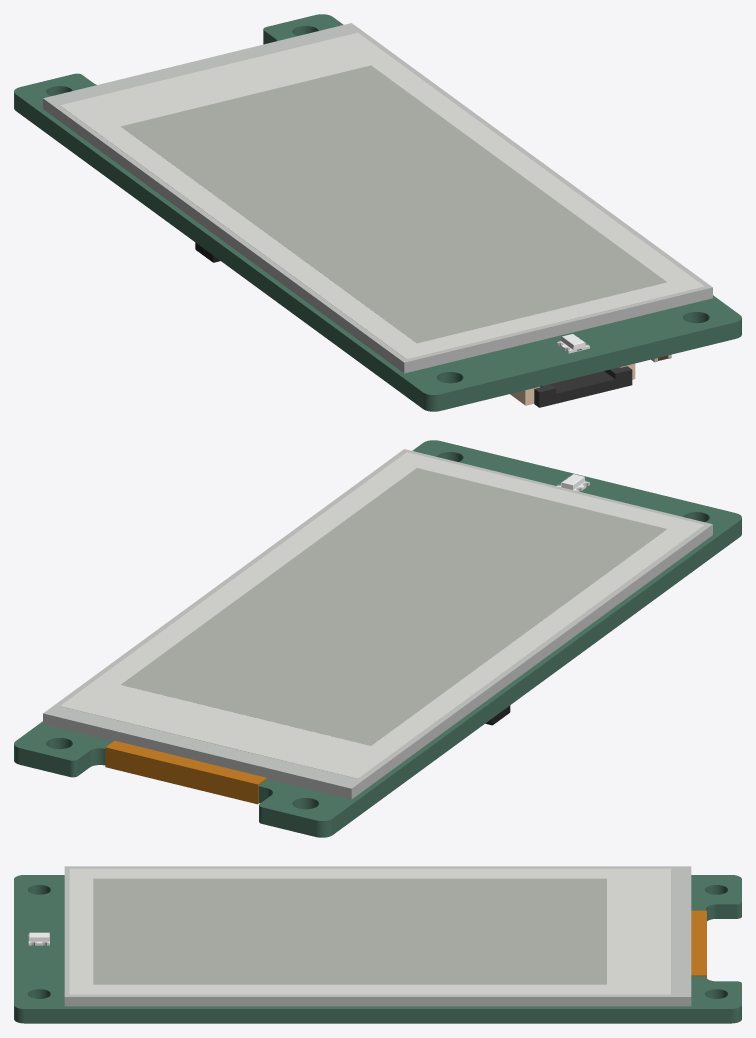
The model's file is 2.13inch.glb.
3 views of the same model, one above another, from view 1: azimuth 30°, elevation 25°; view 2: azimuth 150°, elevation 25°; view 3: azimuth 270°, elevation 25° (orthographic). The views are drawn at different scales.
Visible parts, largest first — view 1: EP_PANEL1, =>[0:1:1:11], EP_FPC2; view 2: EP_PANEL1, =>[0:1:1:11]; view 3: EP_PANEL1, =>[0:1:1:11], EP_RGB1.
Boxes of the visible parts, x1,y1,x2,y2 form: EP_PANEL1: (43, 23, 712, 373); =>[0:1:1:11]: (14, 14, 741, 411); EP_FPC2: (510, 363, 635, 407); EP_PANEL1: (43, 449, 712, 804); =>[0:1:1:11]: (14, 440, 741, 837); EP_PANEL1: (64, 866, 706, 1006); =>[0:1:1:11]: (14, 875, 741, 1023); EP_RGB1: (28, 932, 49, 945).
Size of the model in its own units: 0.03 by 0.00469 by 0.0688.
